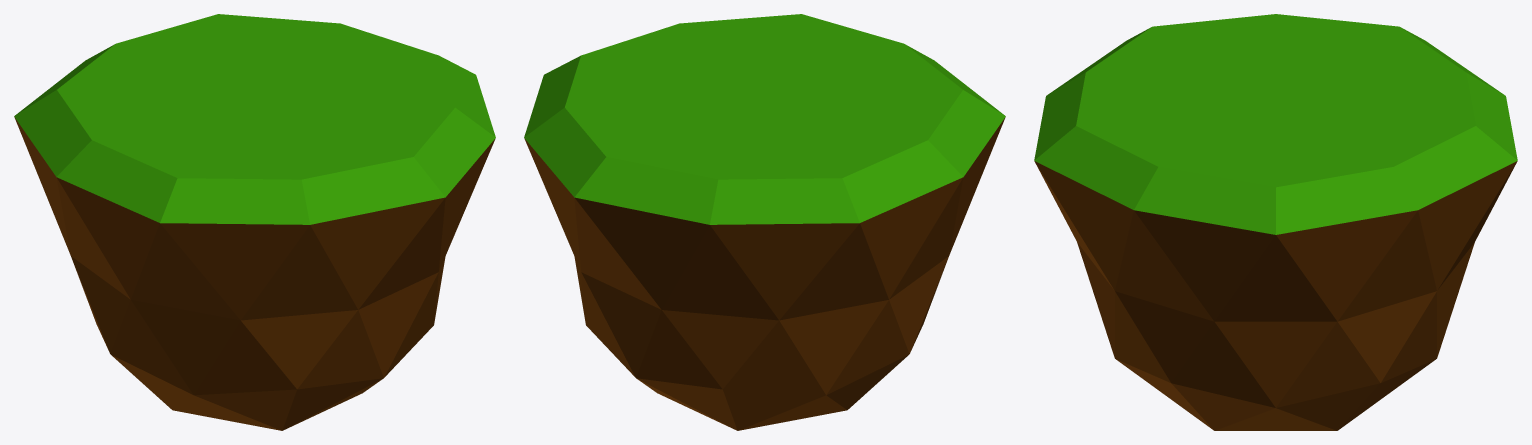
The model's file is Island_01.fbx.
The picture shows the model from 3 angles, left to right: view 1: azimuth 30°, elevation 25°; view 2: azimuth 150°, elevation 25°; view 3: azimuth 270°, elevation 25°; orthographic projection. The views are drawn at different scales.
Parts seen in each view (by area): view 1: Island_01; view 2: Island_01; view 3: Island_01.
Boxes of the visible parts, x1,y1,x2,y2 form: Island_01: [14, 14, 495, 430]; Island_01: [524, 14, 1005, 430]; Island_01: [1034, 14, 1517, 430].
Bounding box in the file's own units: 249 × 179 × 243.
